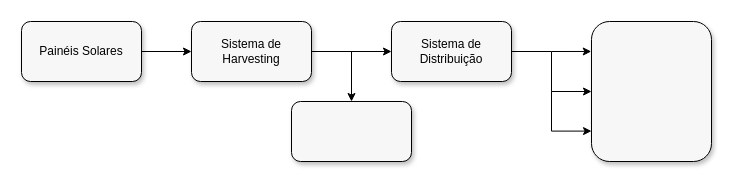
This 735x186 diagram has some shape labels left out. Here are the shapes that lost their labels. From the top down, the centre of each, then its label:
(x=652, y=92): Subsistemas do Satélite
(x=352, y=132): Sistema de Armazenamento
